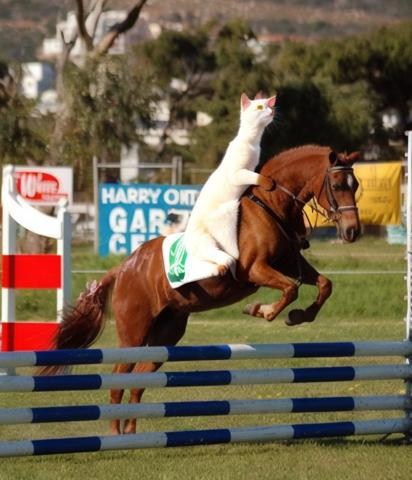cat: (169, 93, 279, 281)
horse: (41, 146, 360, 435)
